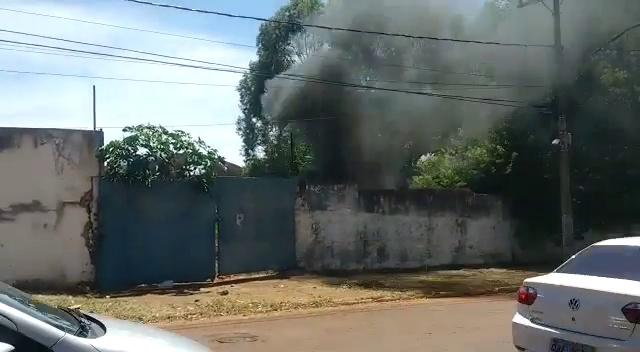smoke: (341, 7, 457, 135)
